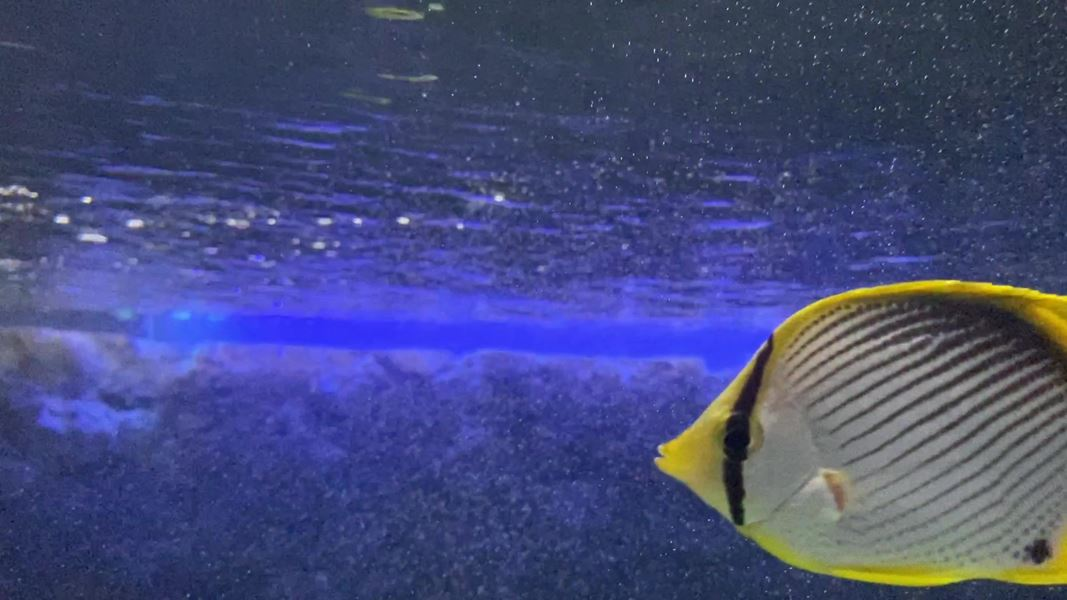Black-backed butterflyfish: (640, 264, 1067, 594)
